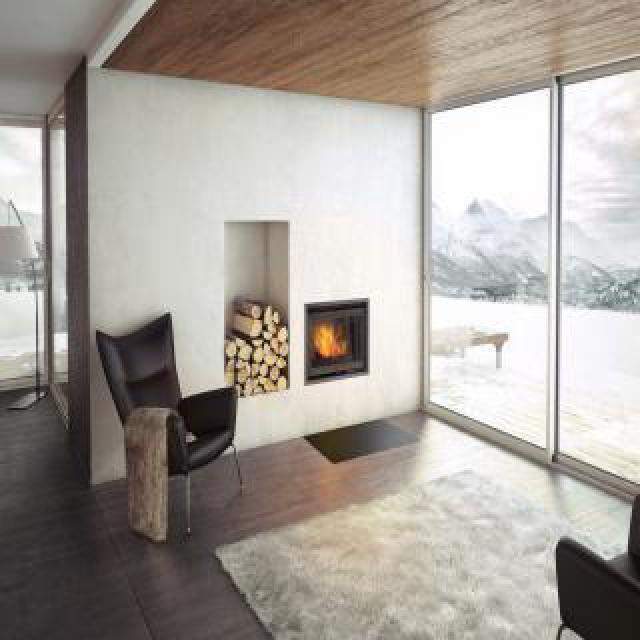zfire: (310, 324, 354, 368)
